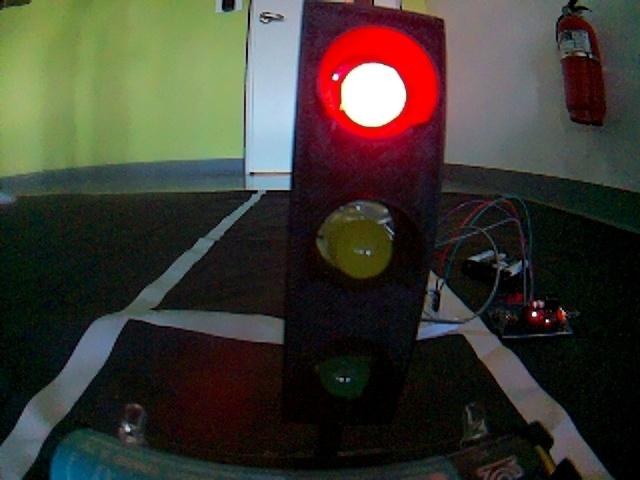red_light: (282, 7, 441, 432)
